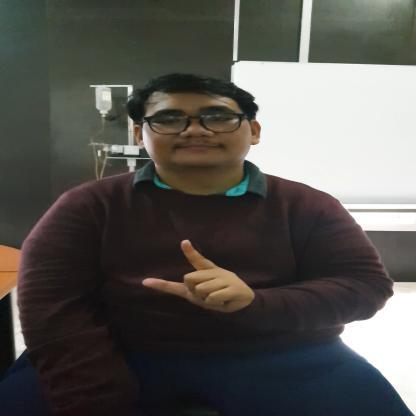L: (140, 239, 256, 315)
